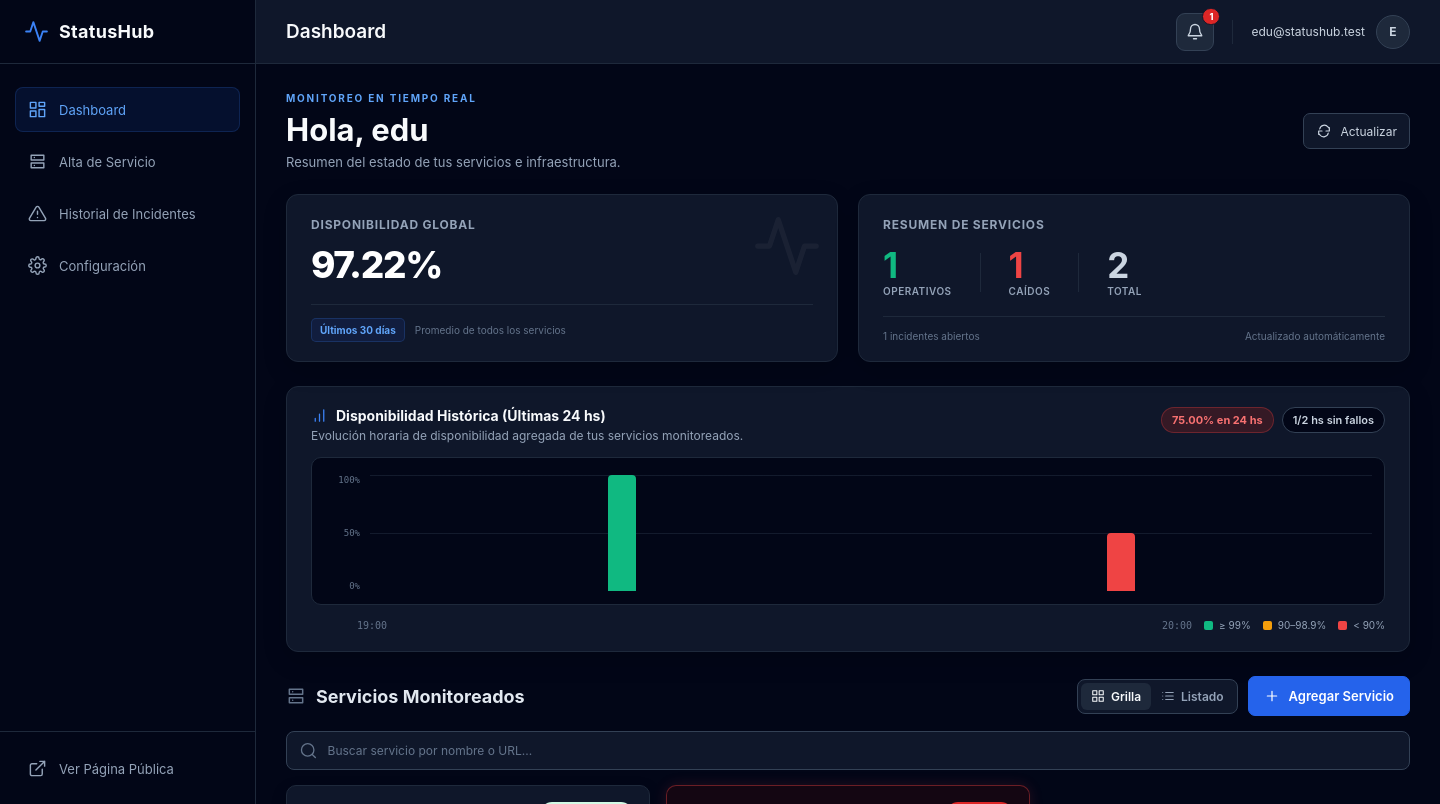
Test: Dashboard — Disponibilidad histórica, vista Grilla/Listado, modal de detalle y Notificaciones › muestra "No se encontraron servicios." fuera del grid (ancho completo) cuando la búsqueda no coincide
This screenshot has width=1440, height=804.
Type "inexistente-xyz" into the search field with placeholder "Buscar servicio por nombre o URL...".
click(862, 750); type("inexistente-xyz")  # box [328, 732, 1396, 769]
(page scrolled)
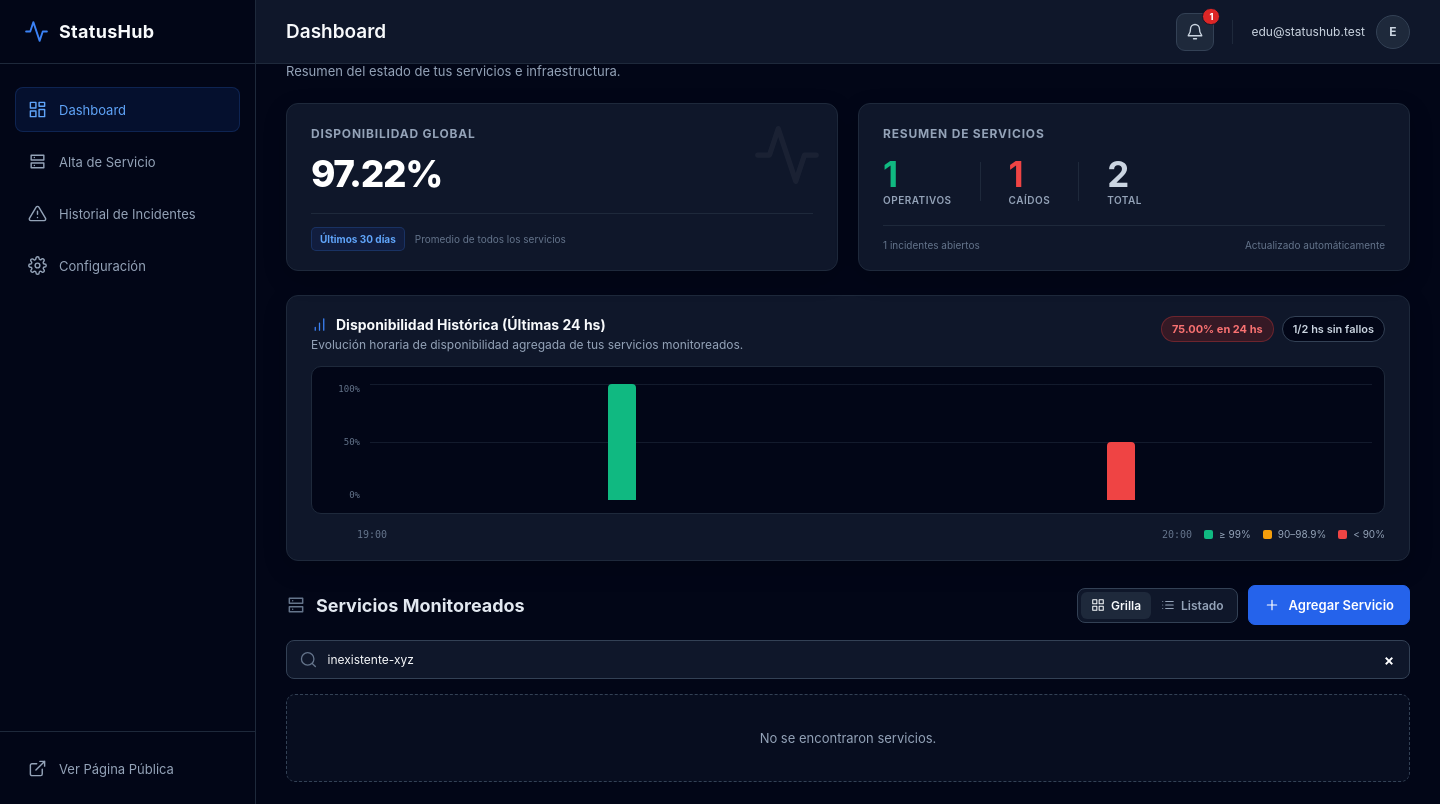
Check: the text "No se encontraron servicios." is shown, box [286, 694, 1410, 782]
